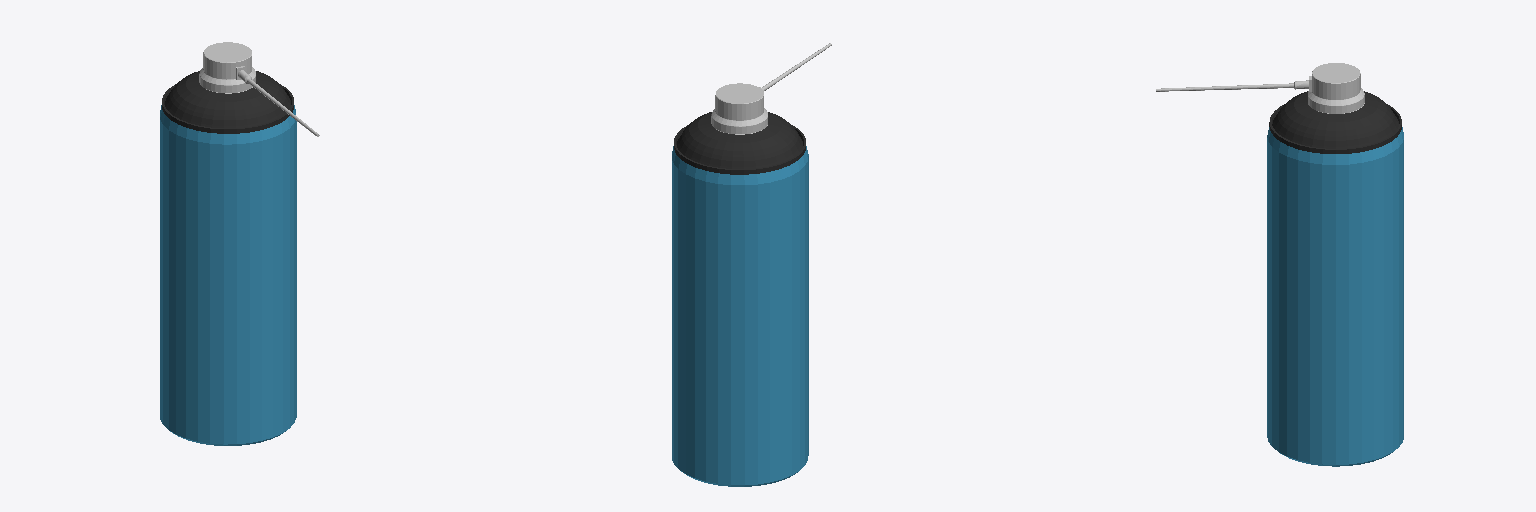
Rendered from SmallGazBottle.obj.
3 views of the same model, side by side, from view 1: azimuth 30°, elevation 25°; view 2: azimuth 150°, elevation 25°; view 3: azimuth 270°, elevation 25° (orthographic).
Parts seen in each view (by area): view 1: Cylinder; view 2: Cylinder; view 3: Cylinder.
Part boxes in pixels (x1,y1,x2,y2): Cylinder: (160,42,319,445); Cylinder: (672,43,831,486); Cylinder: (1156,63,1403,466).
Size of the model in its own units: 0.8812 by 2.59 by 1.6.